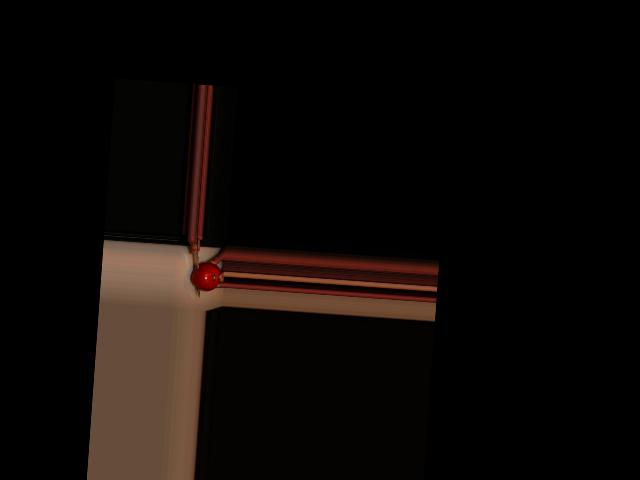tomato: (190, 261, 221, 292)
